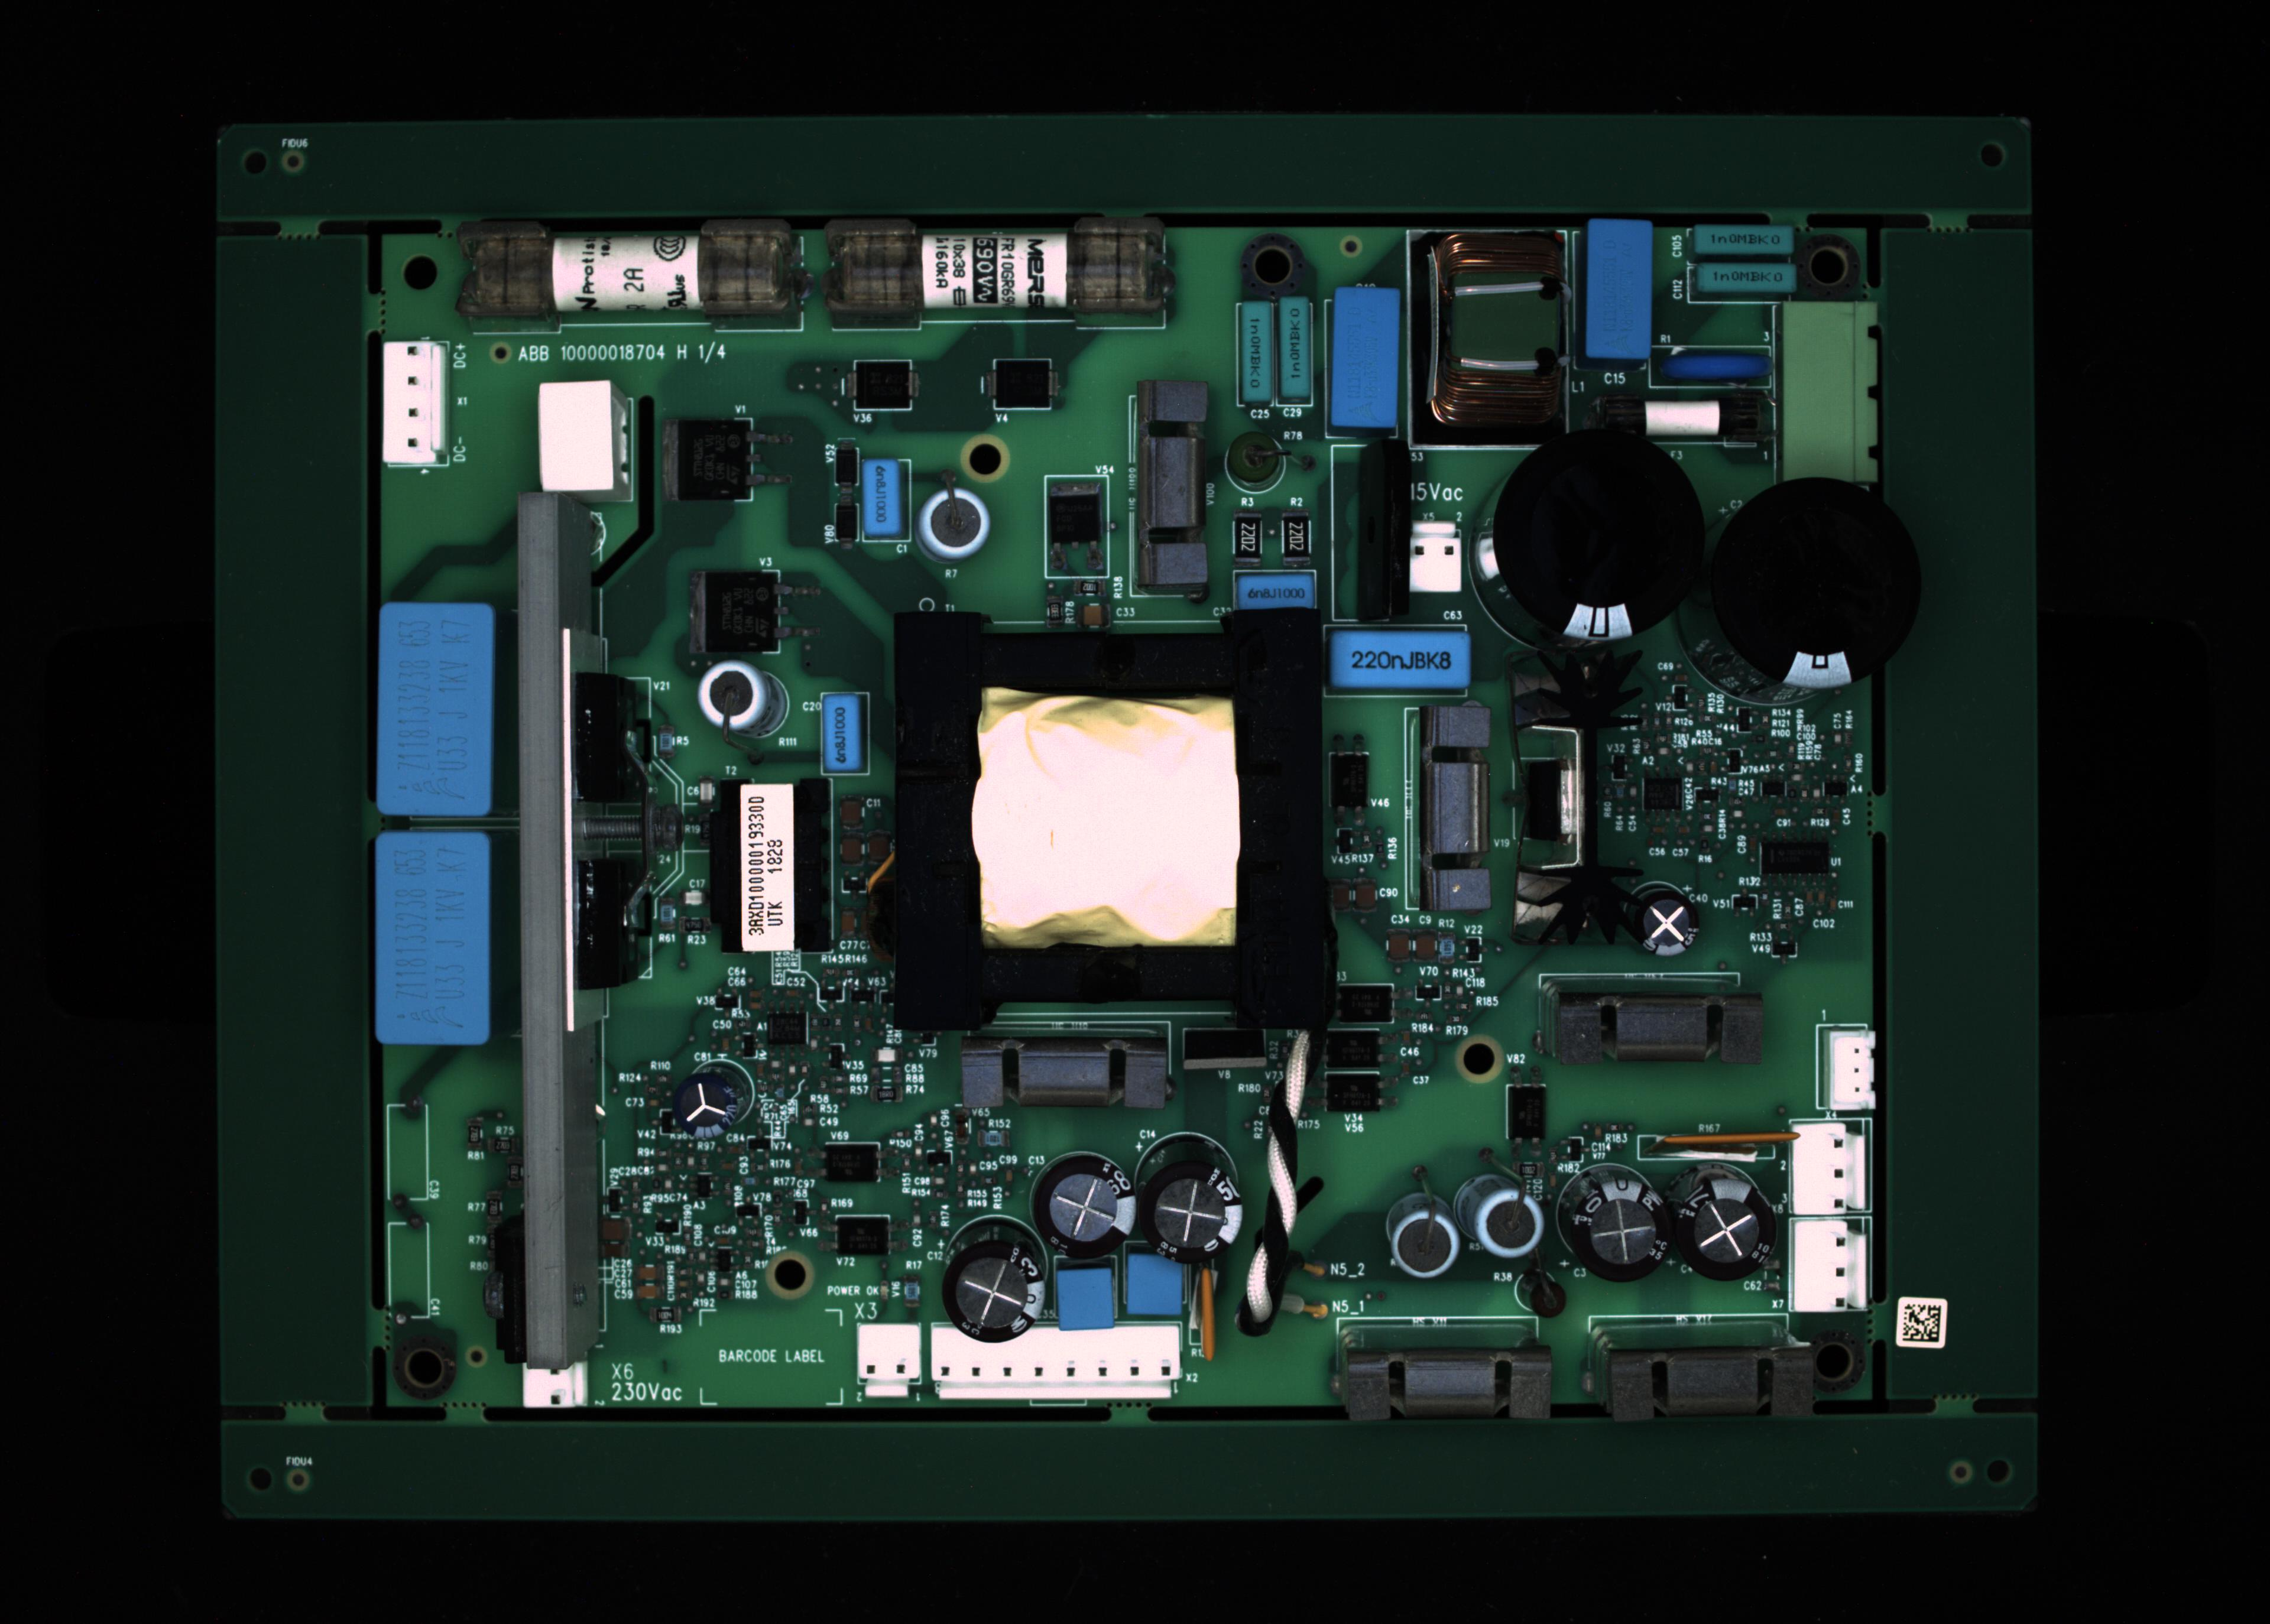10_p: (1648, 346, 1772, 394)
11_q: (1779, 299, 1880, 482)
12_r: (1591, 388, 1771, 450)
13_s: (383, 341, 443, 464)
14_t: (538, 380, 614, 490)
15_e: (862, 459, 900, 536)
16_k: (916, 489, 992, 562)
17_u: (1127, 385, 1208, 594)
18_v: (1234, 569, 1317, 610)
19_w: (1329, 631, 1472, 689)
1_a: (455, 223, 804, 334)
20_f: (1407, 522, 1461, 592)
21_g: (1488, 429, 1709, 643)
22_g: (1711, 482, 1925, 687)
23_h: (376, 603, 492, 814)
24_h: (371, 828, 489, 1042)
25_f: (515, 1360, 591, 1411)
26_f: (855, 1323, 923, 1401)
27_x: (932, 1323, 1180, 1408)
28_i: (1129, 1120, 1241, 1239)
29_i: (1027, 1153, 1134, 1274)
2_a: (825, 223, 1171, 329)
30_i: (941, 1216, 1055, 1339)
31_j: (1050, 1267, 1120, 1339)
32_j: (1115, 1237, 1197, 1329)
33_e: (814, 692, 869, 780)
34_k: (1380, 1193, 1465, 1281)
35_k: (1456, 1178, 1544, 1258)
36_i: (1568, 1179, 1672, 1283)
37_i: (1676, 1174, 1778, 1285)
38_l: (1331, 1346, 1554, 1424)
39_l: (1604, 1345, 1815, 1420)
3_b: (1238, 302, 1270, 404)
40_l: (1539, 995, 1762, 1065)
41_y: (1407, 703, 1491, 919)
42_z: (1818, 1030, 1876, 1113)
43_m: (1792, 1120, 1871, 1216)
44_m: (1786, 1220, 1873, 1313)
45_i: (670, 1072, 738, 1141)
46_n: (1338, 982, 1412, 1028)
47_n: (811, 1142, 895, 1190)
48_n: (818, 1214, 906, 1269)
49_aa: (767, 1011, 809, 1046)
4_b: (1280, 297, 1310, 397)
50_n: (1321, 1030, 1391, 1070)
51_n: (1308, 1070, 1396, 1120)
52_ab: (1329, 740, 1368, 826)
53_ac: (1656, 1130, 1790, 1165)
54_ad: (1194, 1253, 1222, 1364)
55_l: (957, 1021, 1175, 1118)
56_ae: (1176, 1025, 1282, 1132)
57_af: (1509, 647, 1635, 951)
58_i: (1630, 884, 1702, 958)
59_o: (981, 359, 1067, 417)
5_c: (1333, 285, 1400, 429)
60_o: (840, 357, 923, 420)
6_ag: (1405, 232, 1572, 452)
7_c: (1584, 220, 1653, 360)
8_d: (1697, 227, 1792, 253)
9_d: (1695, 262, 1797, 290)
